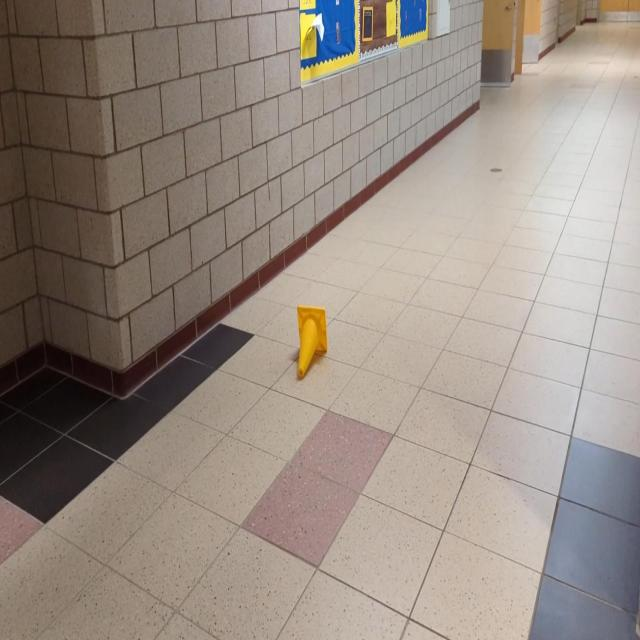frc_cone: (296, 307, 327, 378)
